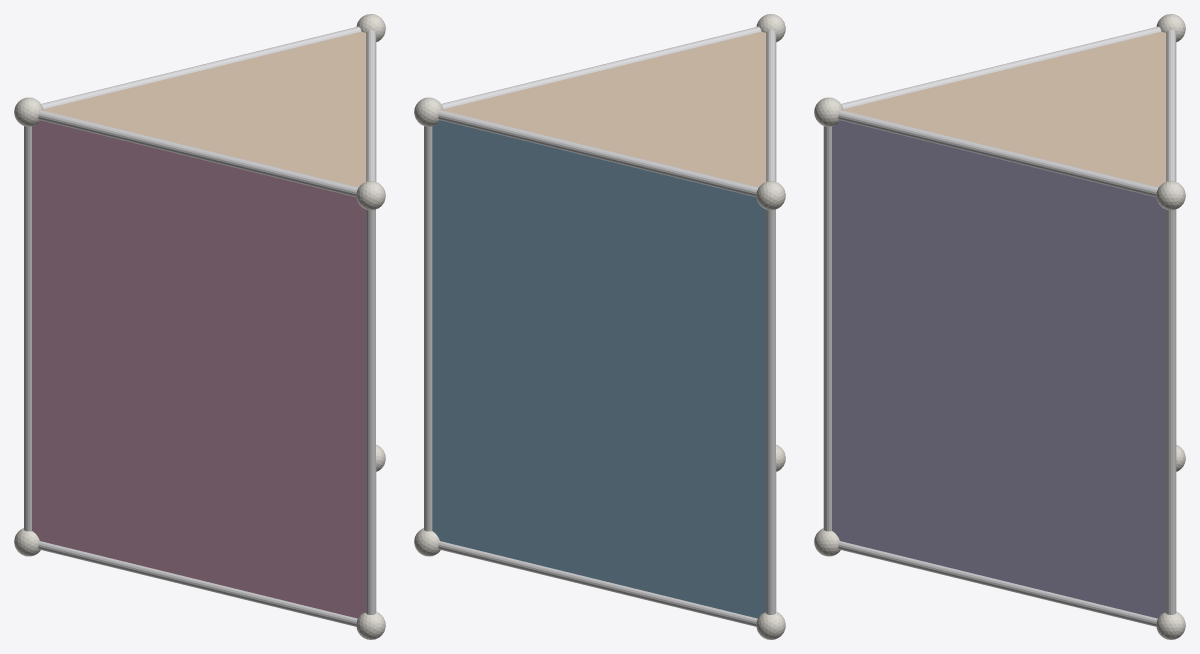
Rendered from 01_prisma_utuh_pastel.glb.
The picture shows the model from 3 angles, left to right: view 1: azimuth 30°, elevation 25°; view 2: azimuth 150°, elevation 25°; view 3: azimuth 270°, elevation 25°; orthographic projection.
Parts seen in each view (by area): view 1: Sisi_Tegak_03, Tutup_Segitiga, Rusuk_09, Rusuk_06, Rusuk_07, Rusuk_03, Rusuk_04, Rusuk_05, Titik_Sudut_06, Titik_Sudut_04, Titik_Sudut_03, Titik_Sudut_01; view 2: Sisi_Tegak_01, Tutup_Segitiga, Rusuk_07, Rusuk_08, Rusuk_04, Rusuk_01, Rusuk_05, Rusuk_06, Titik_Sudut_04, Titik_Sudut_01, Titik_Sudut_05, Titik_Sudut_02; view 3: Sisi_Tegak_02, Tutup_Segitiga, Rusuk_08, Rusuk_09, Rusuk_05, Rusuk_02, Rusuk_06, Rusuk_04, Titik_Sudut_05, Titik_Sudut_02, Titik_Sudut_06, Titik_Sudut_03.
Boxes of the visible parts, x1,y1,x2,y2 form: Sisi_Tegak_03: (32,120,365,618); Tutup_Segitiga: (43,31,366,187); Rusuk_09: (366,209,375,614); Rusuk_06: (38,110,358,196); Rusuk_07: (24,126,31,531); Rusuk_03: (38,541,357,626); Rusuk_04: (41,26,361,109); Rusuk_05: (366,30,376,181); Titik_Sudut_06: (356,181,385,210); Titik_Sudut_04: (14,97,43,126); Titik_Sudut_03: (356,611,385,639); Titik_Sudut_01: (14,528,40,556); Sisi_Tegak_01: (432,120,765,618); Tutup_Segitiga: (443,31,766,187); Rusuk_07: (766,209,775,614); Rusuk_08: (424,126,432,531); Rusuk_04: (438,110,758,196); Rusuk_01: (438,541,757,626); Rusuk_05: (441,26,761,109); Rusuk_06: (766,30,776,181); Titik_Sudut_04: (756,181,785,210); Titik_Sudut_01: (756,611,785,639); Titik_Sudut_05: (414,97,443,126); Titik_Sudut_02: (414,528,440,556); Sisi_Tegak_02: (832,120,1165,618); Tutup_Segitiga: (843,32,1166,187); Rusuk_08: (1166,209,1176,614); Rusuk_09: (823,126,831,531); Rusuk_05: (838,110,1158,196); Rusuk_02: (838,541,1157,626); Rusuk_06: (841,26,1161,109); Rusuk_04: (1166,30,1176,181); Titik_Sudut_05: (1156,181,1185,210); Titik_Sudut_02: (1156,611,1185,639); Titik_Sudut_06: (814,97,843,126); Titik_Sudut_03: (814,528,840,556).
Bounding box in the file's own units: 2.15 × 2.55 × 1.88.
